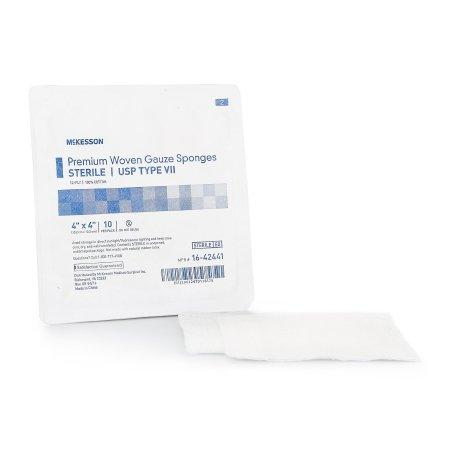bandage: (171, 307, 421, 369)
